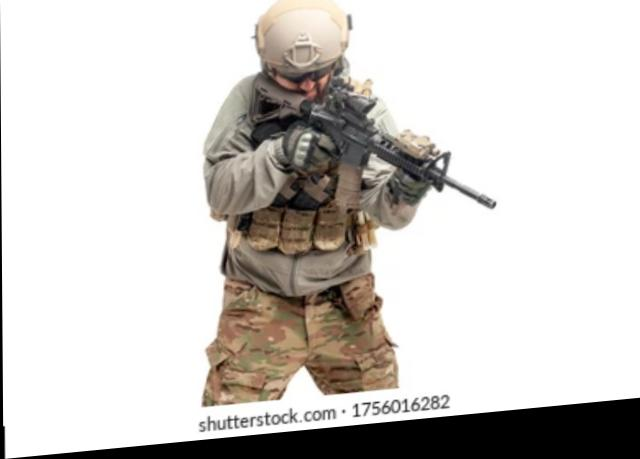other: (199, 0, 438, 408)
